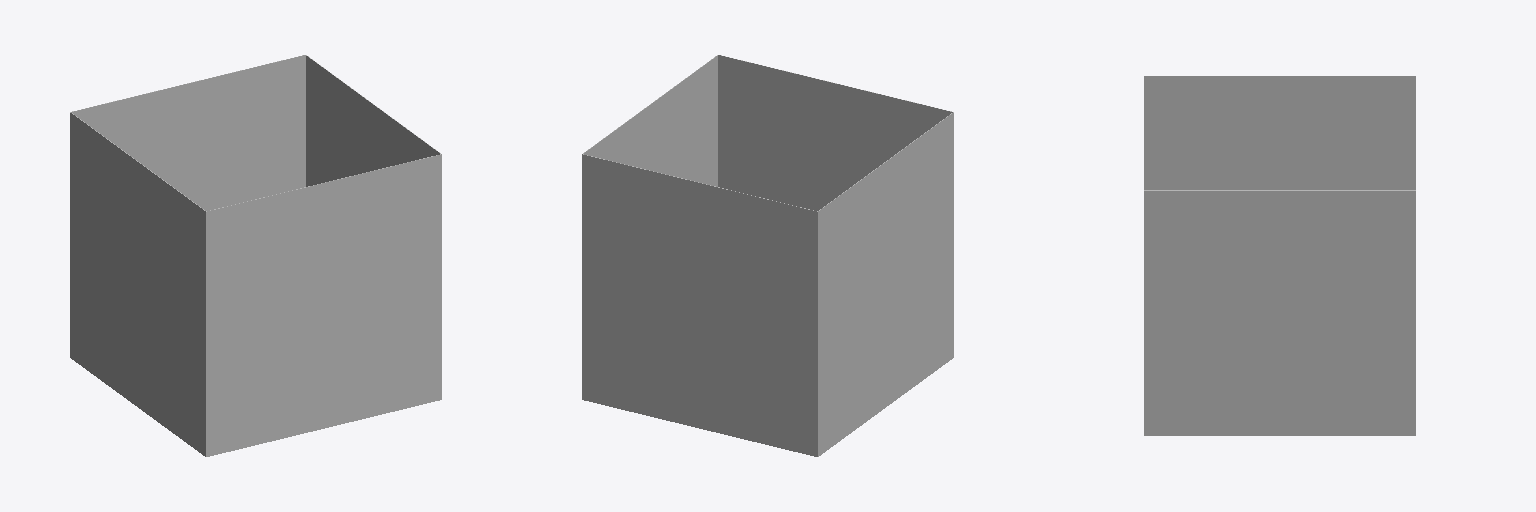
Rendered from field.obj.
3 views of the same model, side by side, from view 1: azimuth 30°, elevation 25°; view 2: azimuth 150°, elevation 25°; view 3: azimuth 270°, elevation 25° (orthographic).
Parts seen in each view (by area): view 1: Cube; view 2: Cube; view 3: Cube.
Part boxes in pixels (x1,y1,x2,y2): Cube: (70,55,441,456); Cube: (582,55,953,456); Cube: (1144,76,1415,435).
Size of the model in its own units: 2.01 by 2 by 2.01.